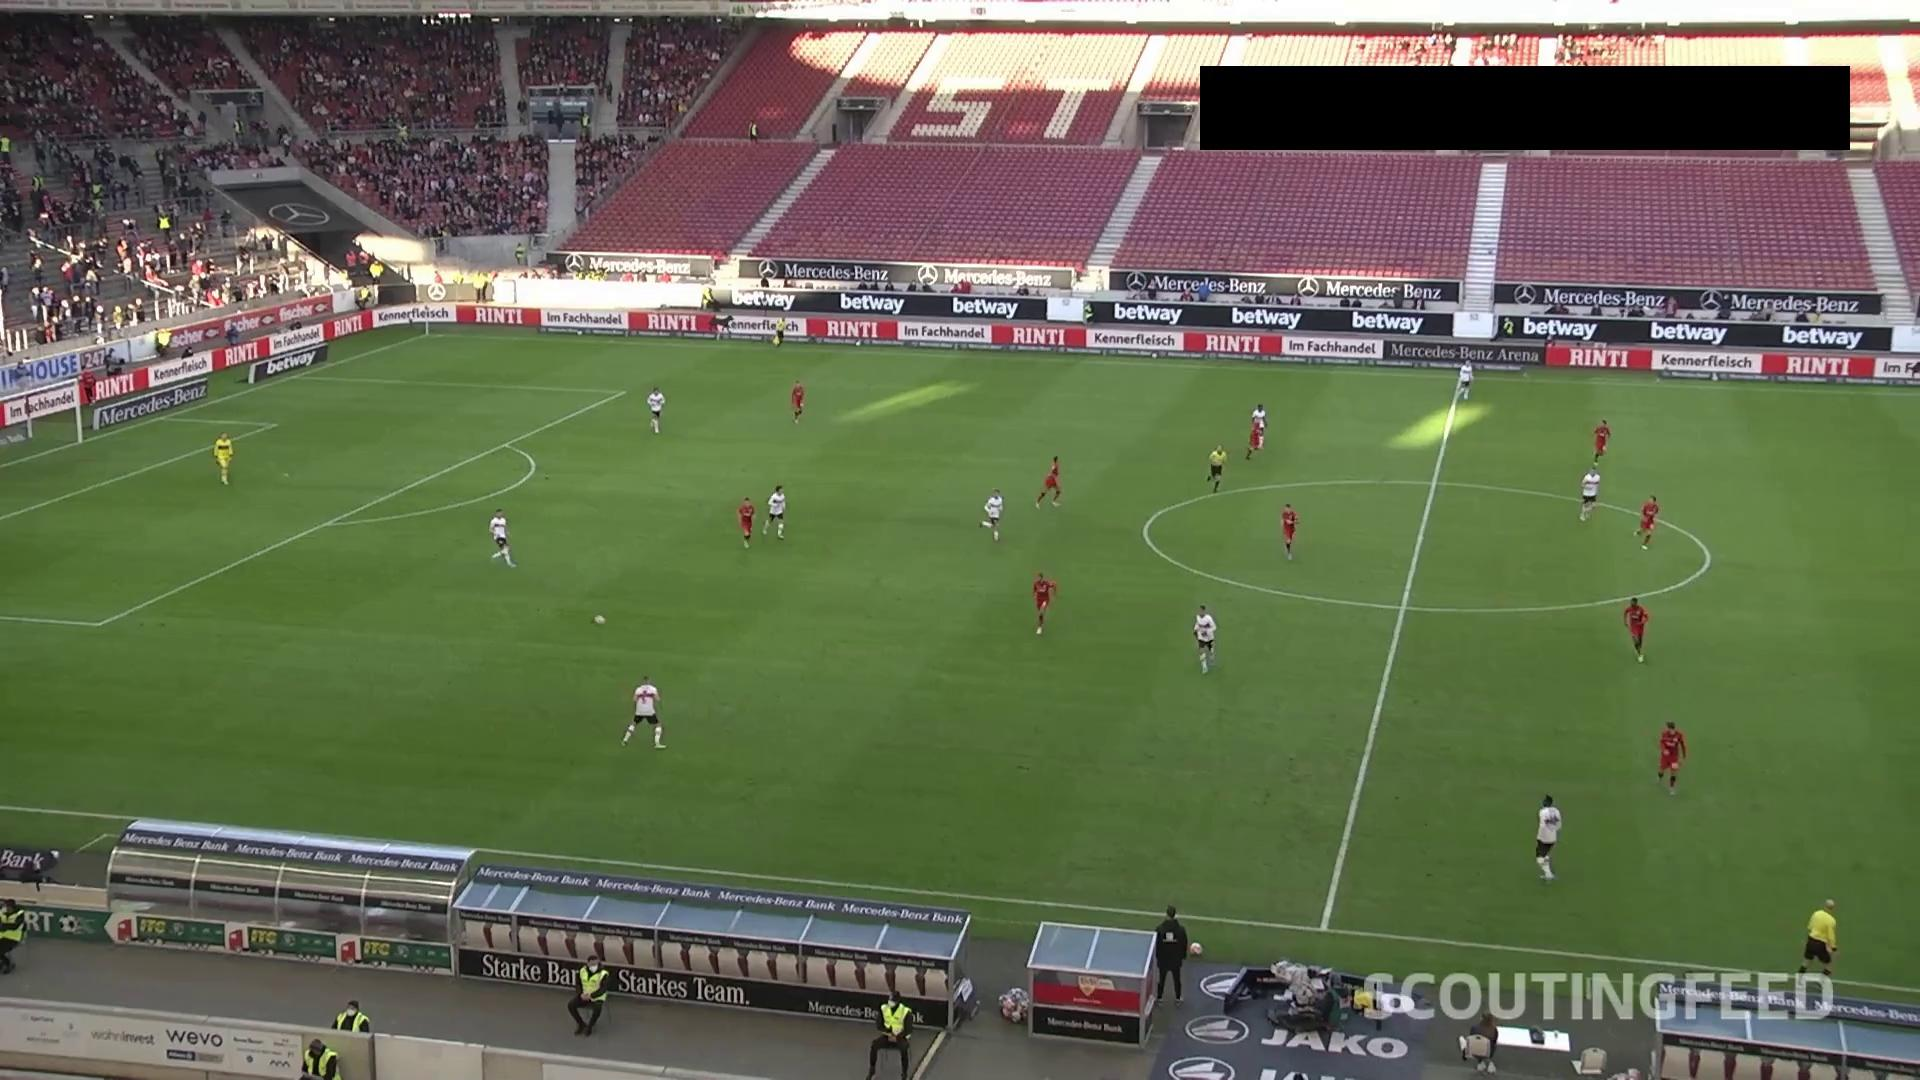Location-of-ball: (587, 605, 613, 628)
